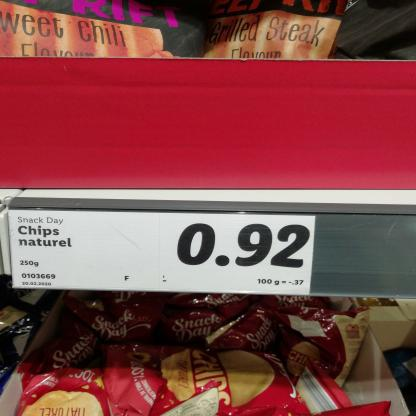prtg: (9, 211, 317, 296)
